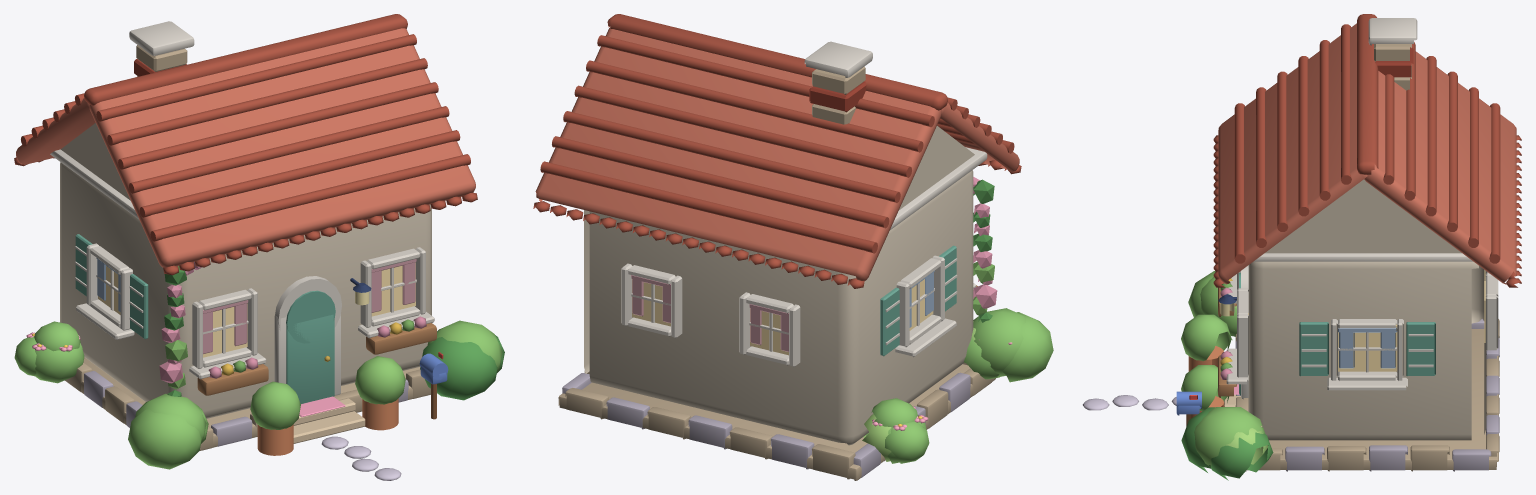
File: ac_cottage_r90.glb
3 renders of one model, left to right at view 1: azimuth 30°, elevation 25°; view 2: azimuth 150°, elevation 25°; view 3: azimuth 270°, elevation 25°, orthographic. The views are drawn at different scales.
Parts seen in each view (by area): view 1: body, nomask; view 2: body, nomask; view 3: body, nomask.
Boxes of the visible parts, x1=… form: body: x1=14, y1=14, x2=477, y2=450; nomask: x1=14, y1=320, x2=504, y2=480; body: x1=533, y1=14, x2=1021, y2=480; nomask: x1=862, y1=308, x2=1053, y2=463; body: x1=1213, y1=14, x2=1521, y2=471; nomask: x1=1082, y1=271, x2=1273, y2=480.
Bounding box in the file's own units: 9.96 × 8.94 × 10.35.
